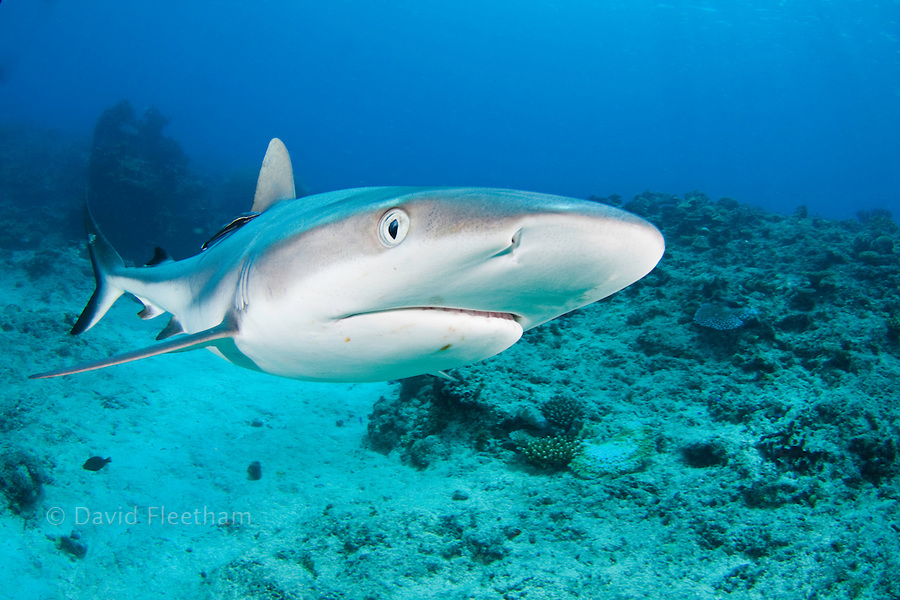Carcharhinus_amblyrhynchos: (73, 133, 672, 403)
